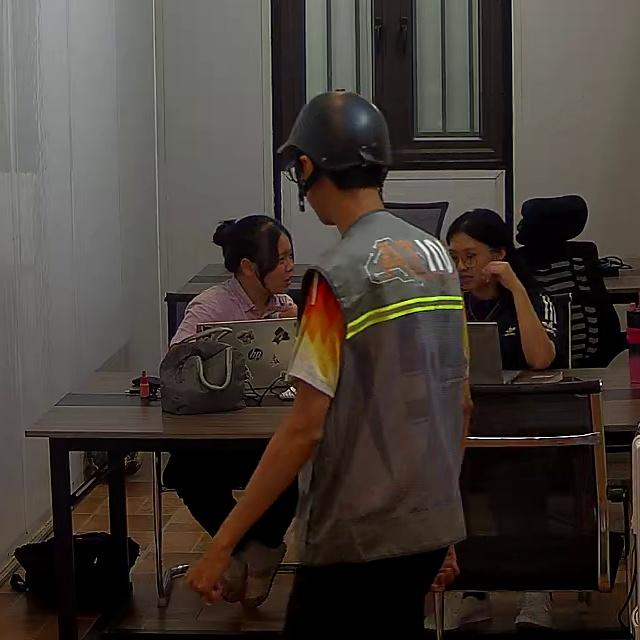helmet: (275, 87, 398, 178)
no_helmet: (209, 211, 297, 282), (447, 207, 520, 262)
none: (465, 278, 560, 369), (173, 278, 298, 343)
vest: (298, 214, 472, 563)
